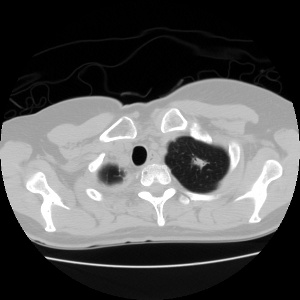PN: (193, 155, 207, 169)
